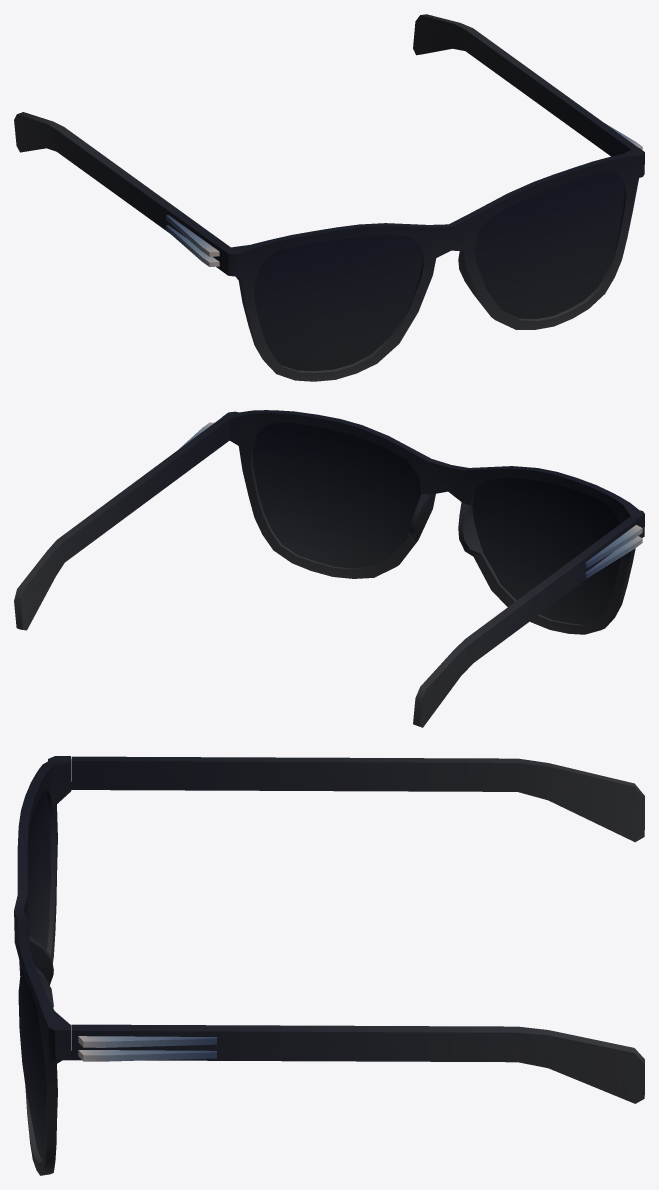
Rendered from Glasses_Sunglasses.gltf.
The picture shows the model from 3 angles, top to bottom: view 1: azimuth 30°, elevation 25°; view 2: azimuth 150°, elevation 25°; view 3: azimuth 270°, elevation 25°; orthographic projection. The views are drawn at different scales.
Visible parts, largest first — view 1: Glasses_Sunglasses; view 2: Glasses_Sunglasses; view 3: Glasses_Sunglasses.
Part boxes in pixels (box(x1,y1,x2,y2)): Glasses_Sunglasses: box(14, 14, 644, 381); Glasses_Sunglasses: box(14, 410, 644, 727); Glasses_Sunglasses: box(14, 756, 644, 1175).
Size of the model in its own units: 0.9819 by 0.3317 by 0.9186.
Materials: 2 (2 with a texture image).
